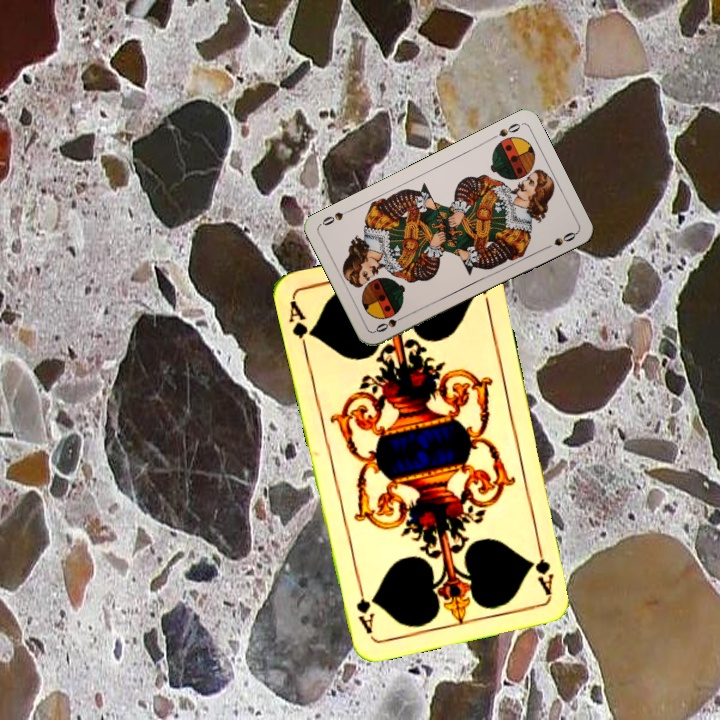GA: (285, 296, 317, 355), (531, 538, 556, 597)
SO: (371, 311, 409, 335), (486, 119, 523, 143)
